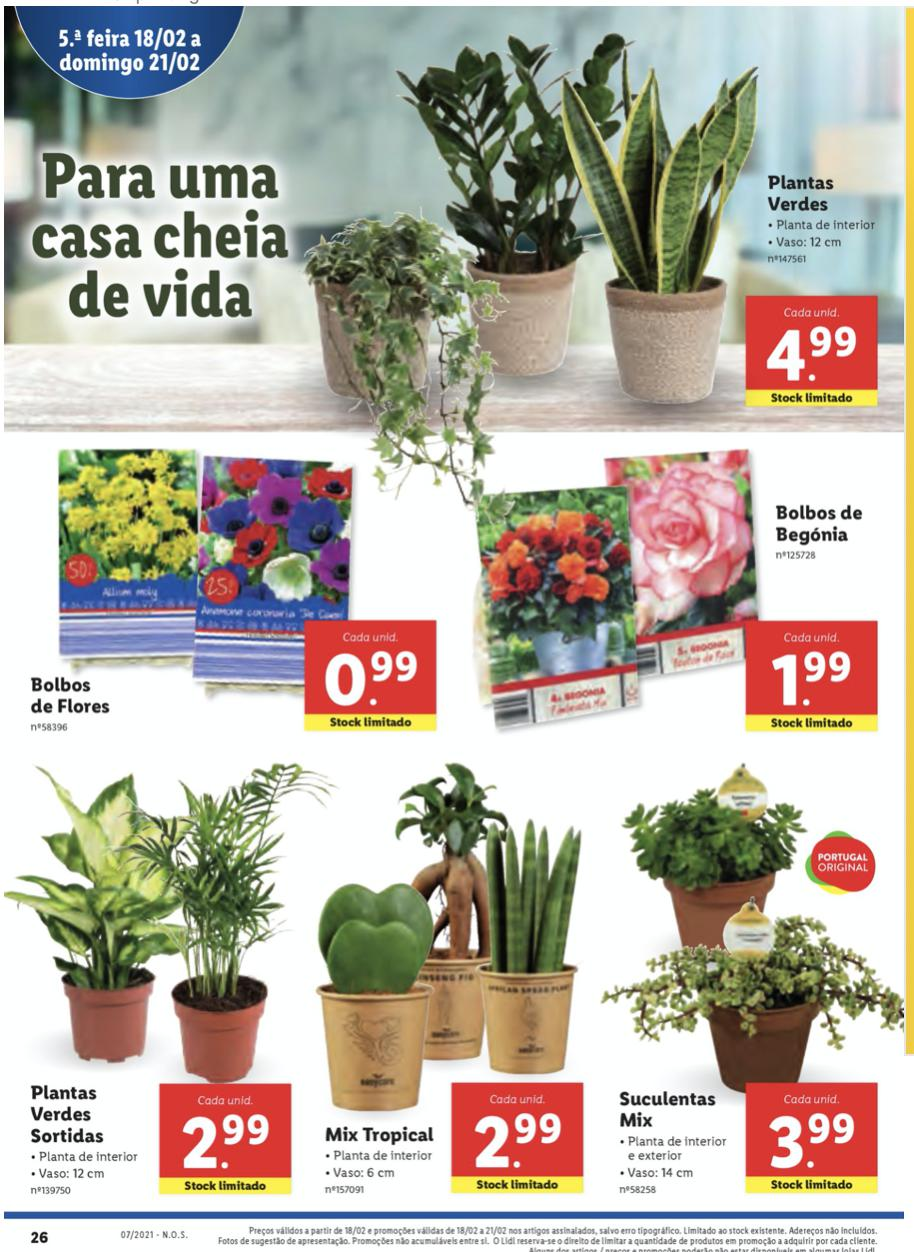name: (24, 1077, 110, 1150), (21, 667, 117, 722), (616, 1085, 719, 1135), (767, 502, 871, 550), (317, 1120, 441, 1150), (755, 172, 844, 212)
price: (761, 319, 864, 389), (317, 648, 424, 711), (175, 1108, 272, 1177), (467, 1109, 567, 1175), (761, 1111, 861, 1175), (766, 648, 855, 711)
product: (297, 19, 872, 425), (303, 745, 607, 1203), (14, 439, 452, 741), (607, 745, 897, 1200), (11, 759, 303, 1203), (478, 450, 891, 742)
